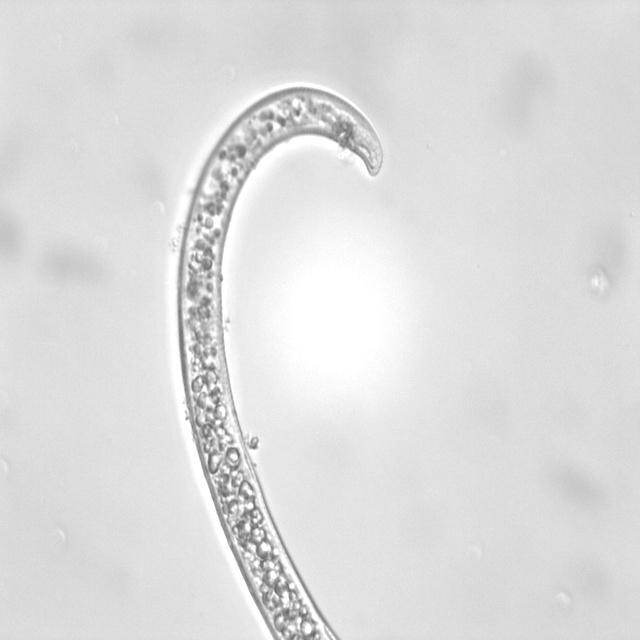Helicotylenchus: (164, 82, 392, 640)
